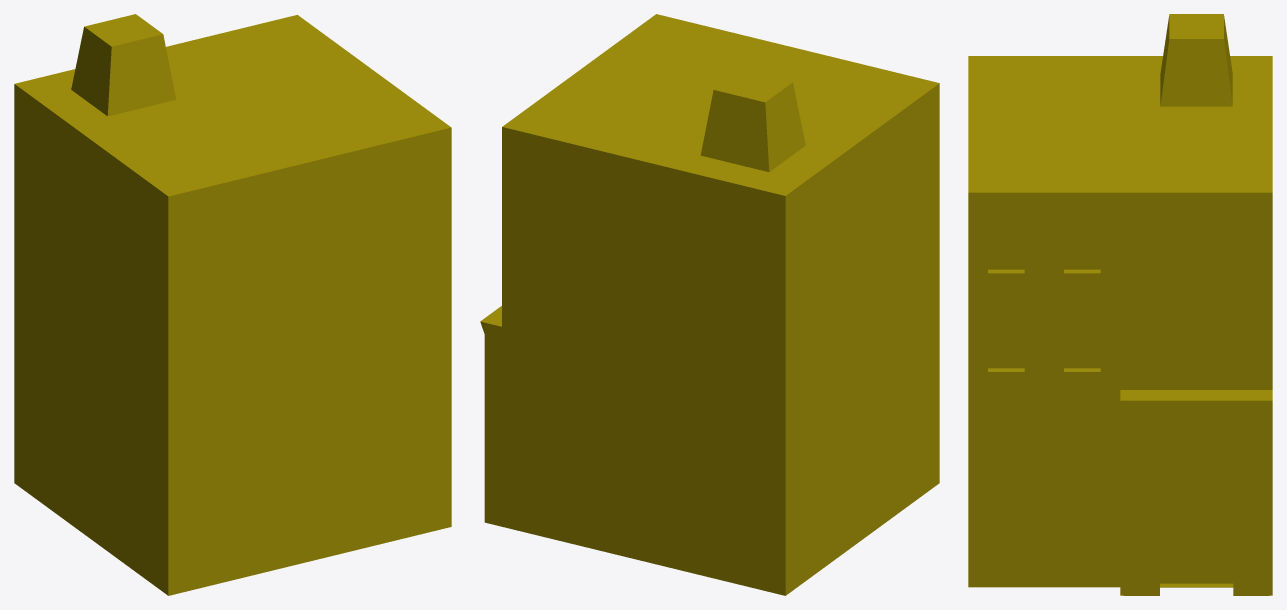
File: BUILDING.fbx
The picture shows the model from 3 angles, left to right: view 1: azimuth 30°, elevation 25°; view 2: azimuth 150°, elevation 25°; view 3: azimuth 270°, elevation 25°; orthographic projection.
Parts seen in each view (by area): view 1: pCube1; view 2: pCube1; view 3: pCube1.
Boxes of the visible parts, box(x1,y1,x2,y2) form: pCube1: box(14, 14, 451, 595); pCube1: box(480, 14, 939, 595); pCube1: box(968, 14, 1272, 595).
Size of the model in its own units: 639 by 929 by 559.
